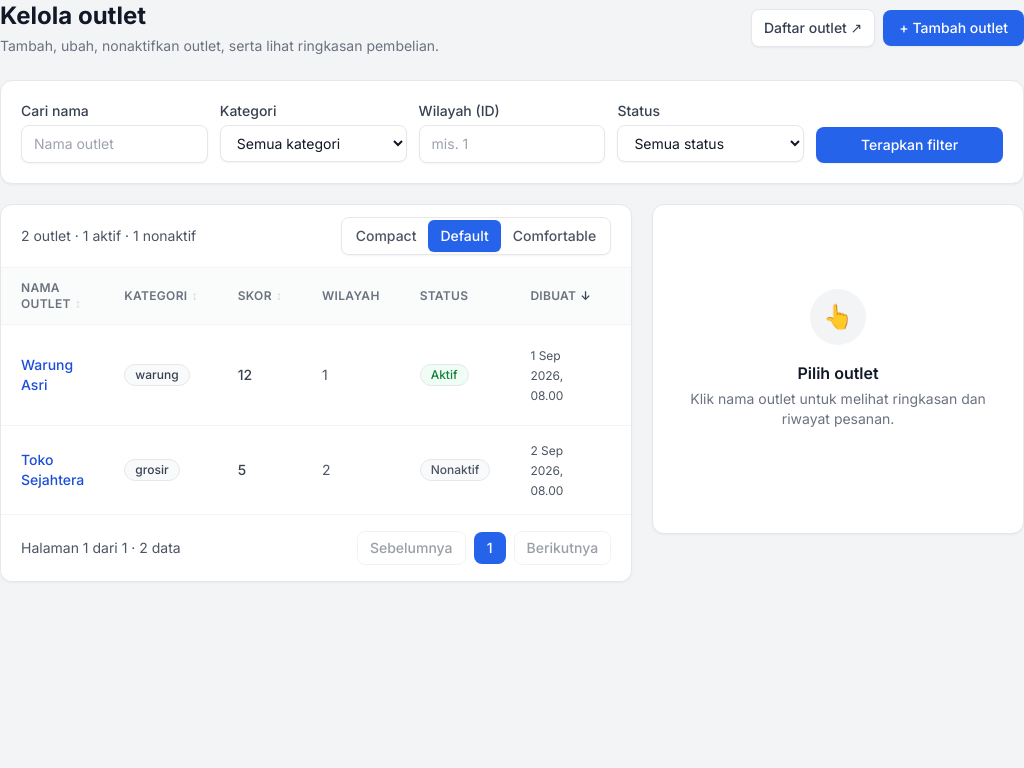
admin outlets page › creates an outlet through the Tambah outlet modal (POST + row prepended)
The image size is (1024, 768).
Expected: the button "Warung Asri" is shown, x1=21 y1=355 x2=84 y2=395
Click the button "+ Tambah outlet" at [954, 28], box x1=883 y1=10 x2=1023 y2=46
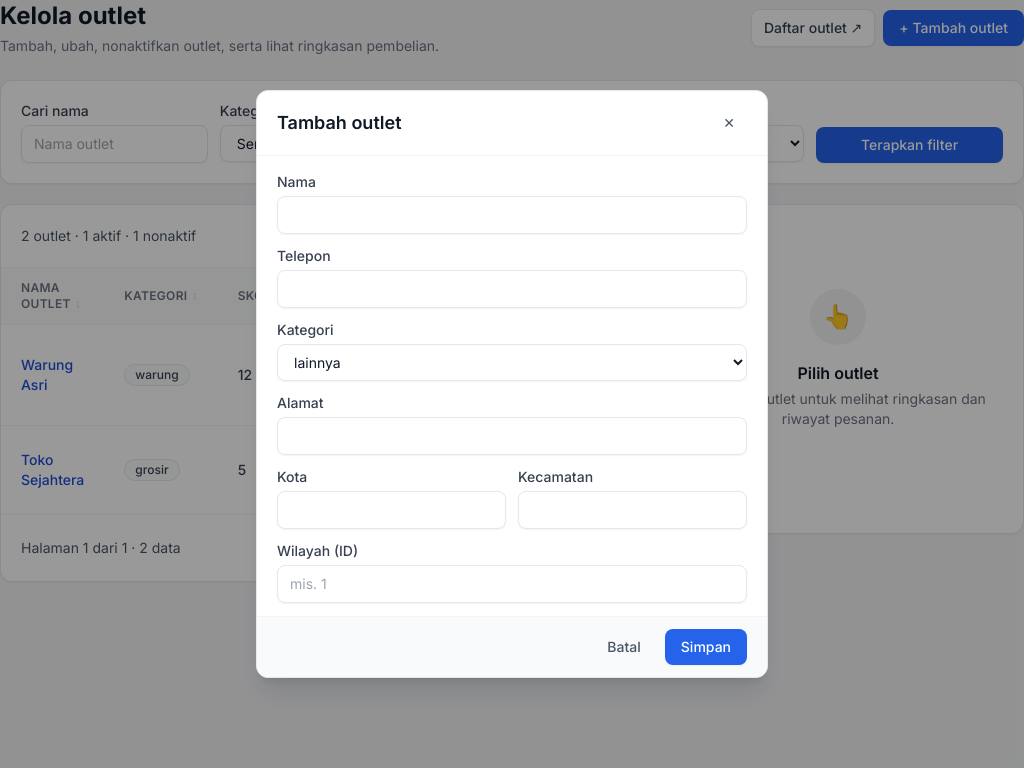
Now the heading "Tambah outlet" is shown, box x1=277 y1=109 x2=402 y2=137
Type "Outlet Baru" into the field labelled "Nama" at [512, 215], box x1=277 y1=196 x2=747 y2=234
Type "081234567890" into the field labelled "Telepon" at [512, 289], box x1=277 y1=270 x2=747 y2=308
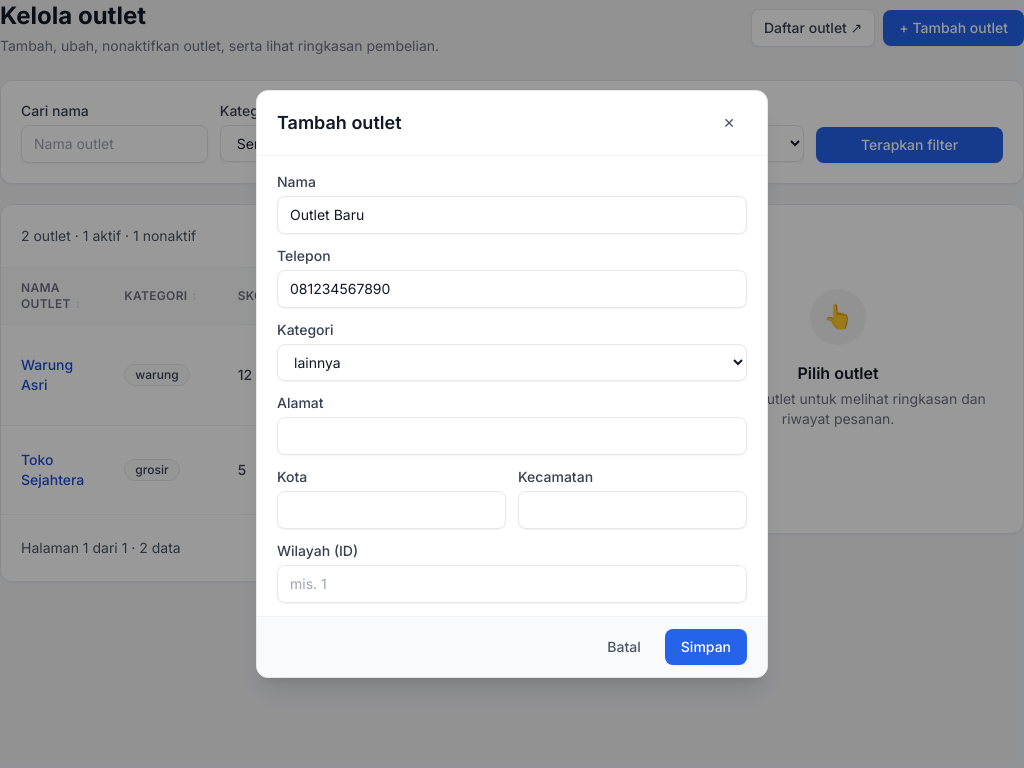
Type "Jl. Baru No. 1" into the field labelled "Alamat" at [512, 436], box x1=277 y1=417 x2=747 y2=455
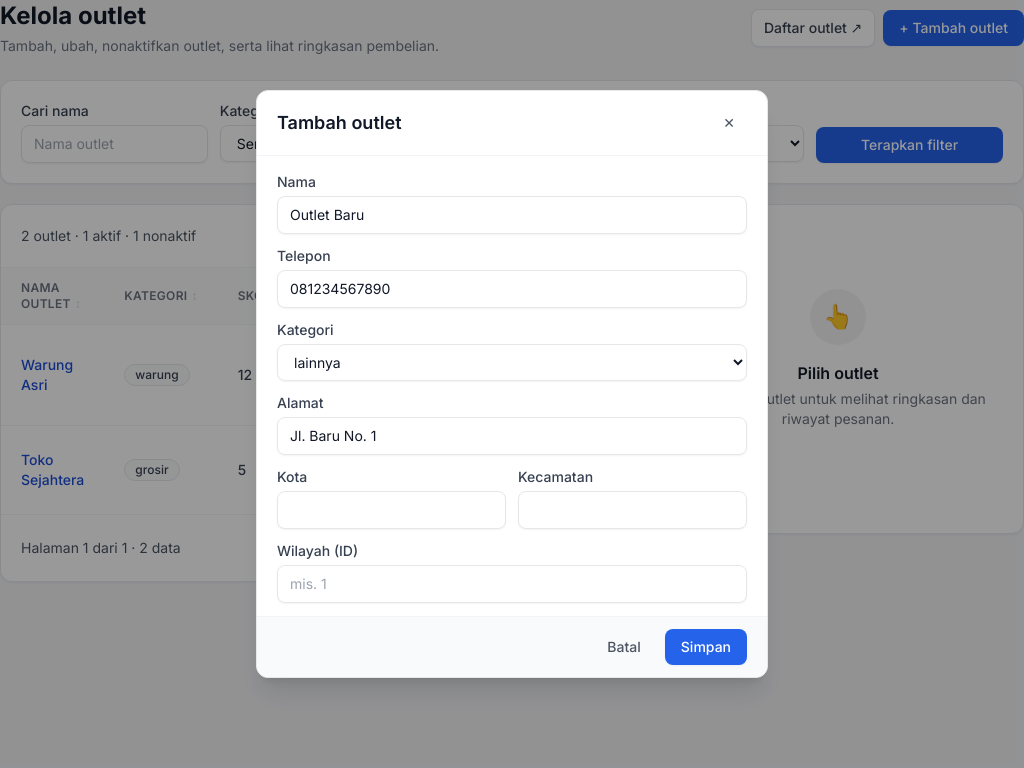
Type "Bekasi" into the field labelled "Kota" at [392, 510], box x1=277 y1=491 x2=506 y2=529
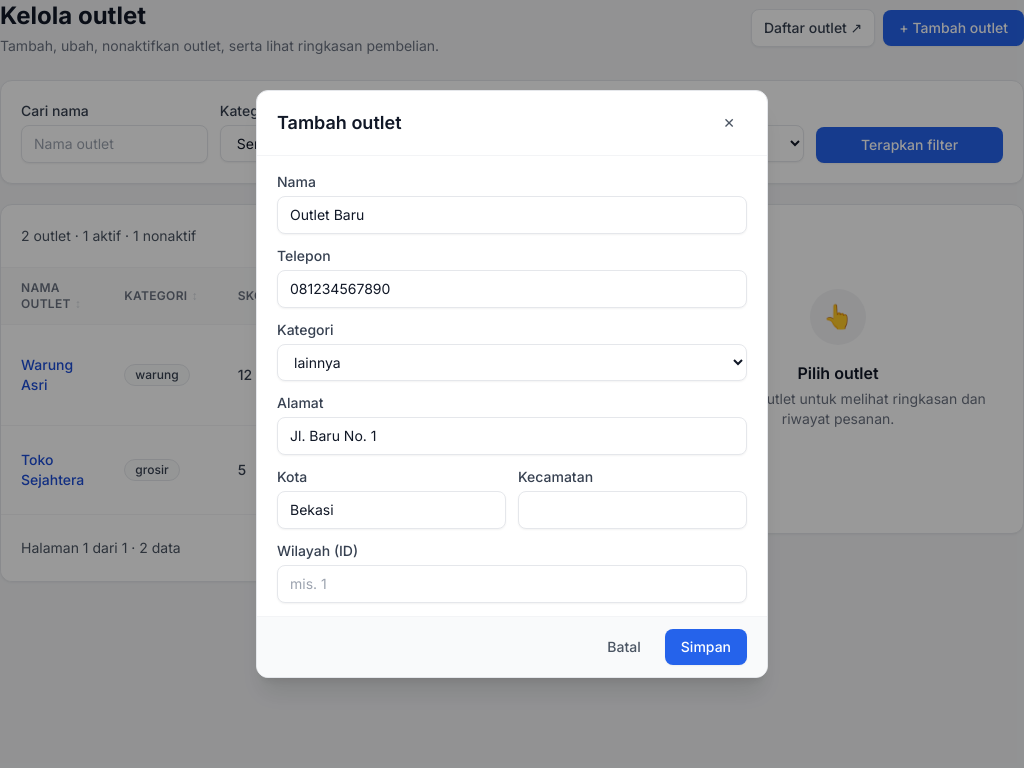
Type "Bekasi Selatan" into the field labelled "Kecamatan" at [632, 510], box x1=518 y1=491 x2=747 y2=529
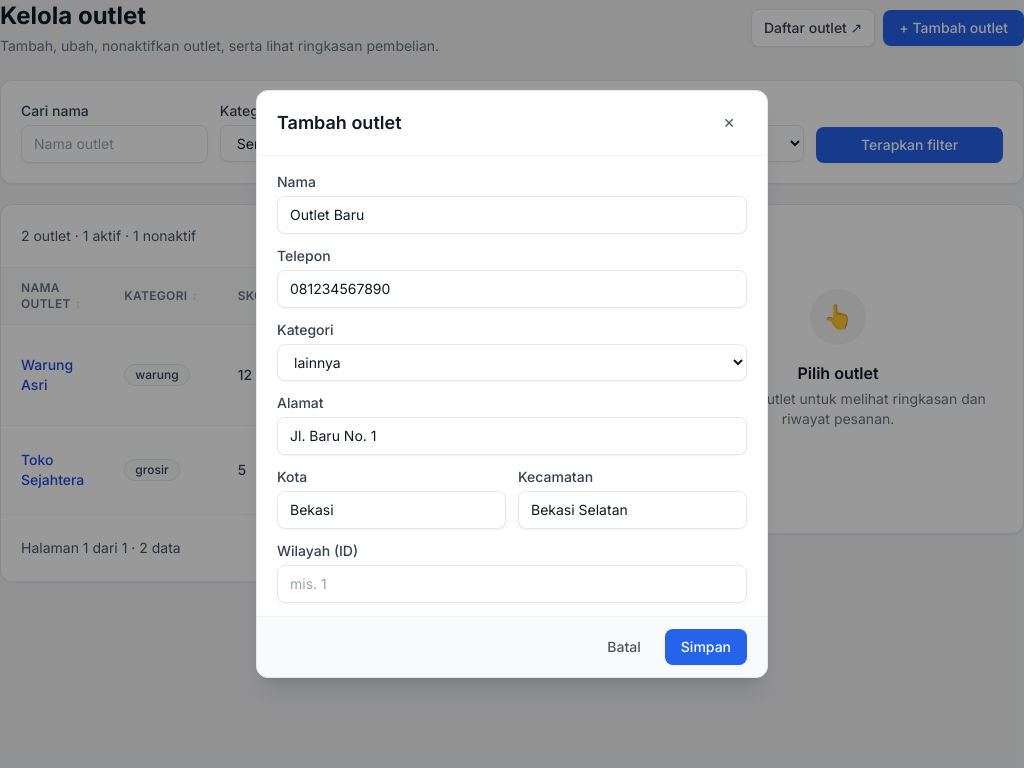
Click the button "Simpan" at [706, 647], box x1=665 y1=629 x2=747 y2=665
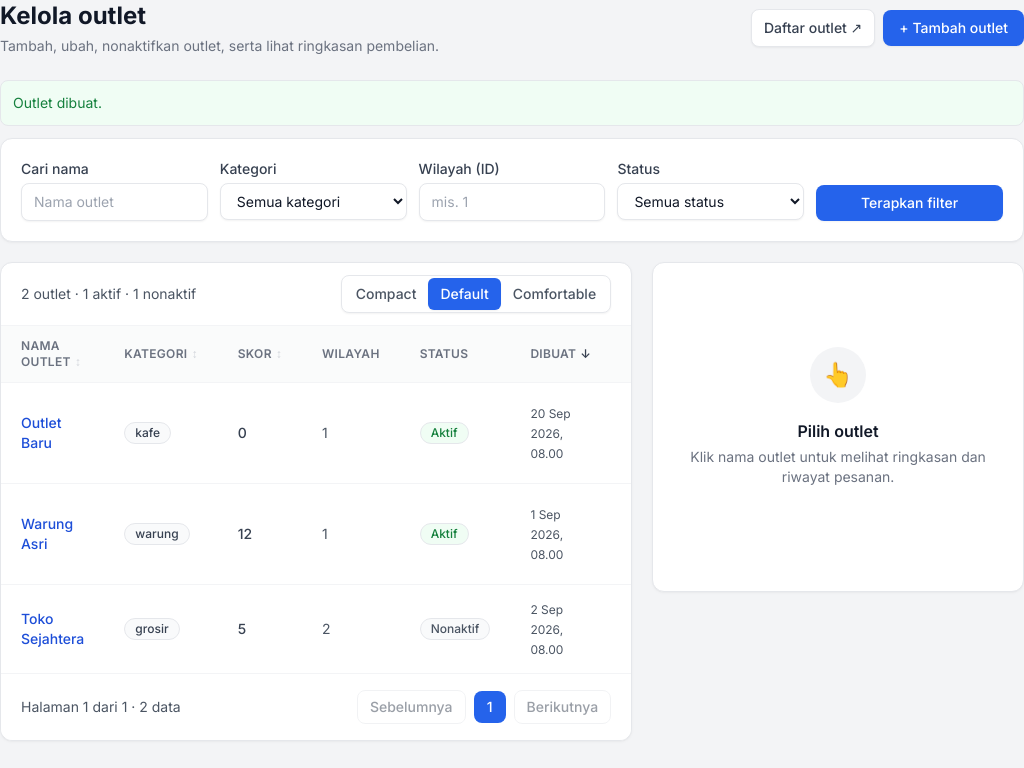
Now the button "Outlet Baru" is shown, box x1=21 y1=413 x2=84 y2=453
